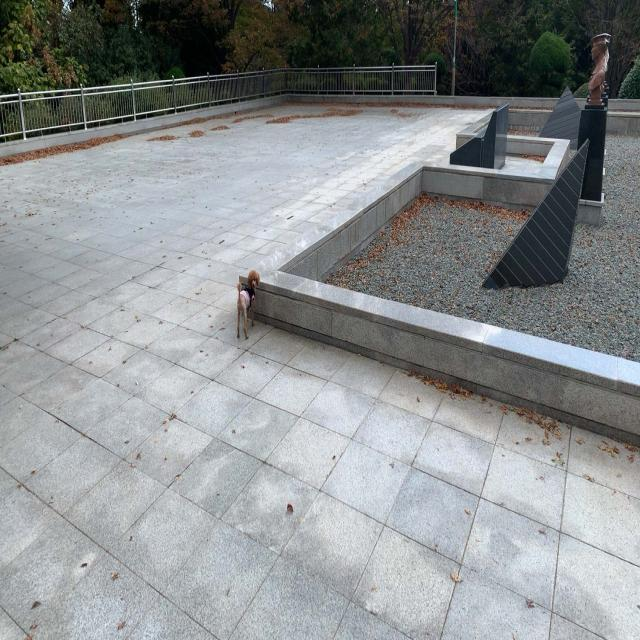Dog: (236, 270, 260, 340)
